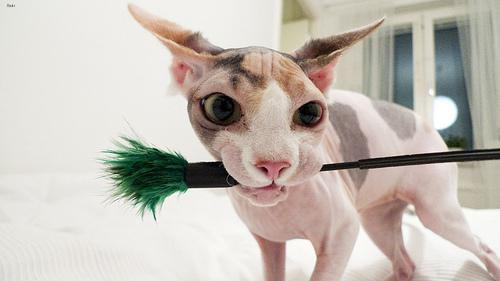cat: (126, 2, 500, 281)
